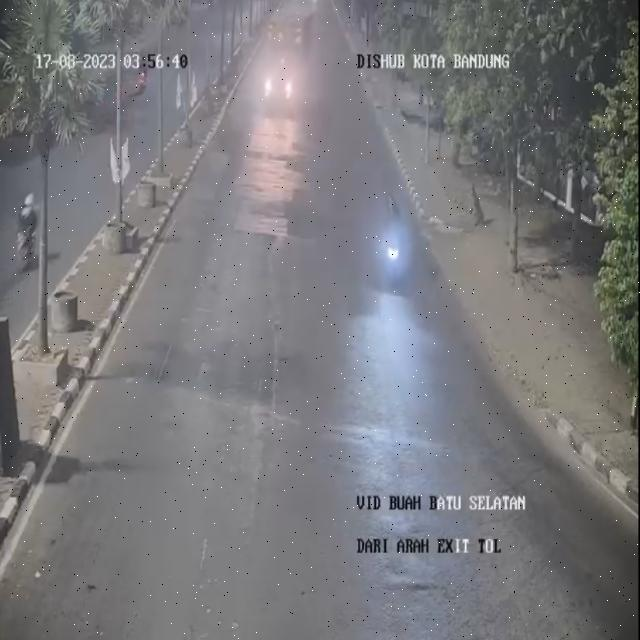motorcycle: (372, 188, 408, 296)
truck: (262, 19, 314, 118)
